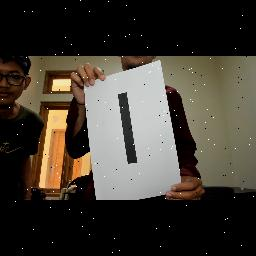i: (113, 88, 149, 168)
